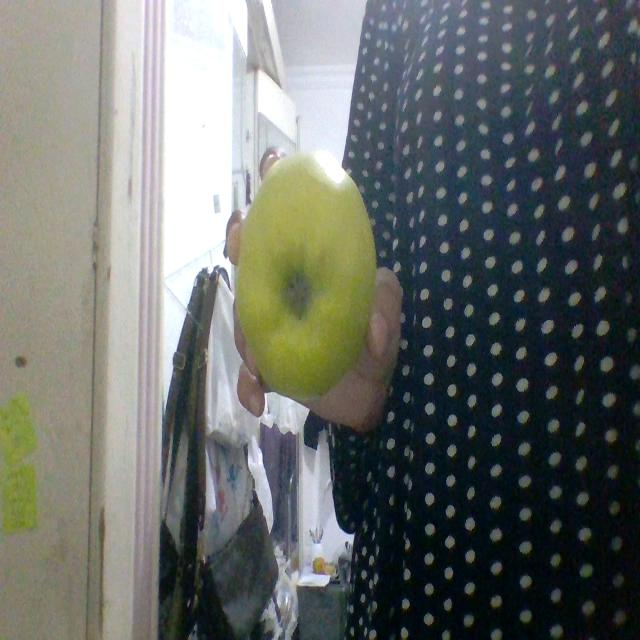50-_ripeness: (235, 152, 375, 399)
